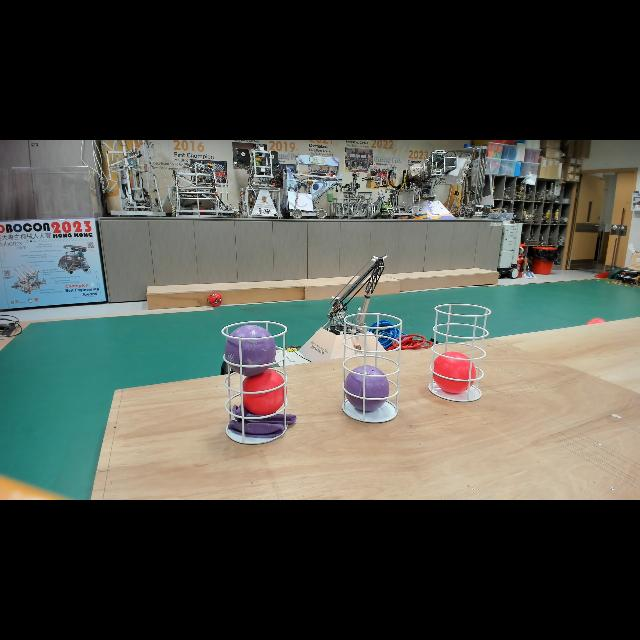P: (222, 324, 278, 378), (342, 364, 391, 414)
R: (239, 366, 287, 416), (429, 348, 477, 396)
S: (220, 320, 290, 446), (340, 312, 402, 424), (428, 303, 492, 403)
